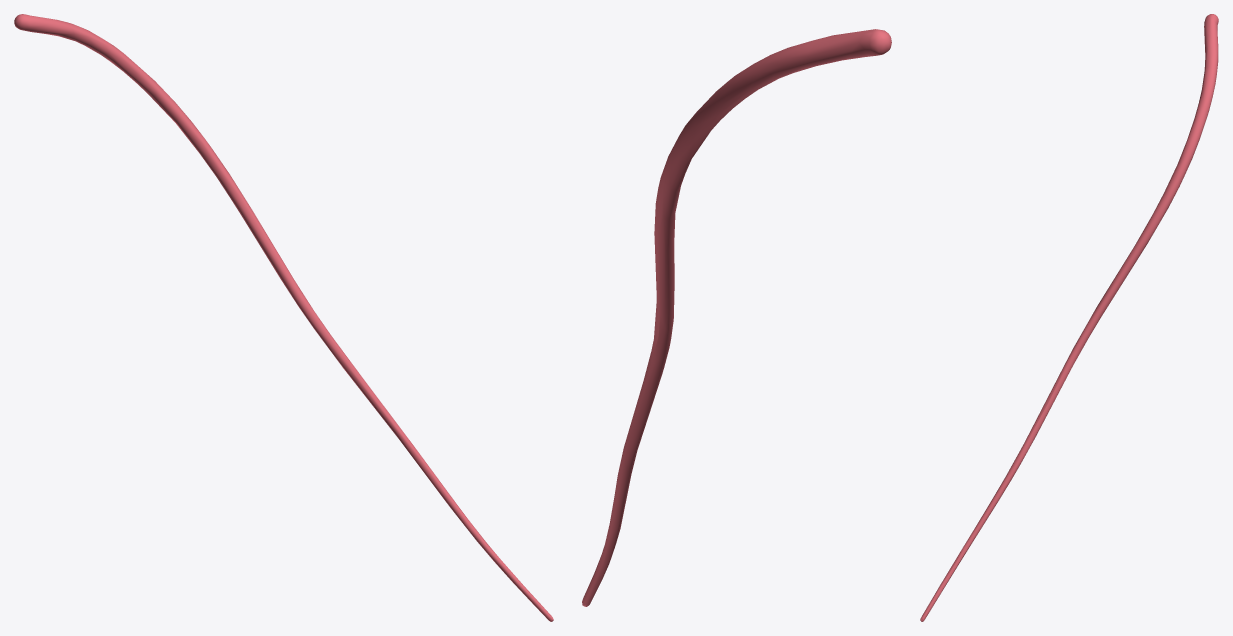
File: fma22921_fj2323.glb
3 views of the same model, side by side, from view 1: azimuth 30°, elevation 25°; view 2: azimuth 150°, elevation 25°; view 3: azimuth 270°, elevation 25° (orthographic). The views are drawn at different scales.
Parts seen in each view (by area): view 1: FMA22921_FJ2323; view 2: FMA22921_FJ2323; view 3: FMA22921_FJ2323.
Boxes of the visible parts, x1,y1,x2,y2 form: FMA22921_FJ2323: (14, 14, 553, 621); FMA22921_FJ2323: (582, 29, 891, 606); FMA22921_FJ2323: (920, 14, 1218, 621).
Size of the model in its own units: 0.0372 by 0.0554 by 0.0322.
